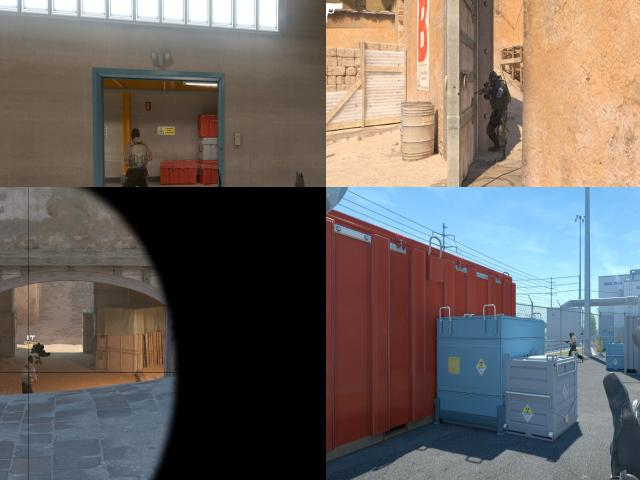CT: (486, 69, 508, 150)
CT-Head: (489, 70, 499, 84)
Dead: (31, 341, 50, 353)
T: (124, 128, 150, 187), (21, 354, 37, 393), (570, 332, 578, 356)
T-Head: (131, 127, 142, 144), (28, 355, 34, 363), (570, 333, 572, 337)
